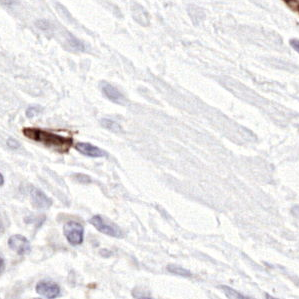Lymphocyte: (22, 126, 73, 150)
